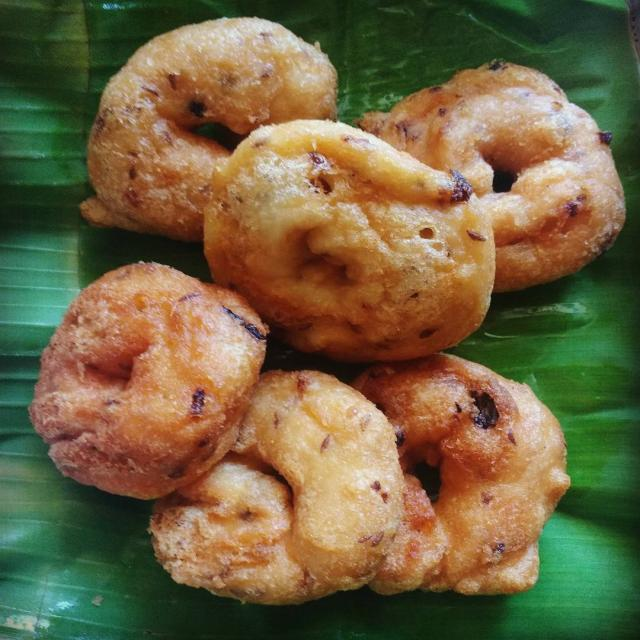Wet Waste: (224, 129, 495, 364), (358, 365, 566, 612), (399, 78, 640, 266), (38, 280, 242, 495), (206, 379, 409, 595), (94, 27, 332, 210)
